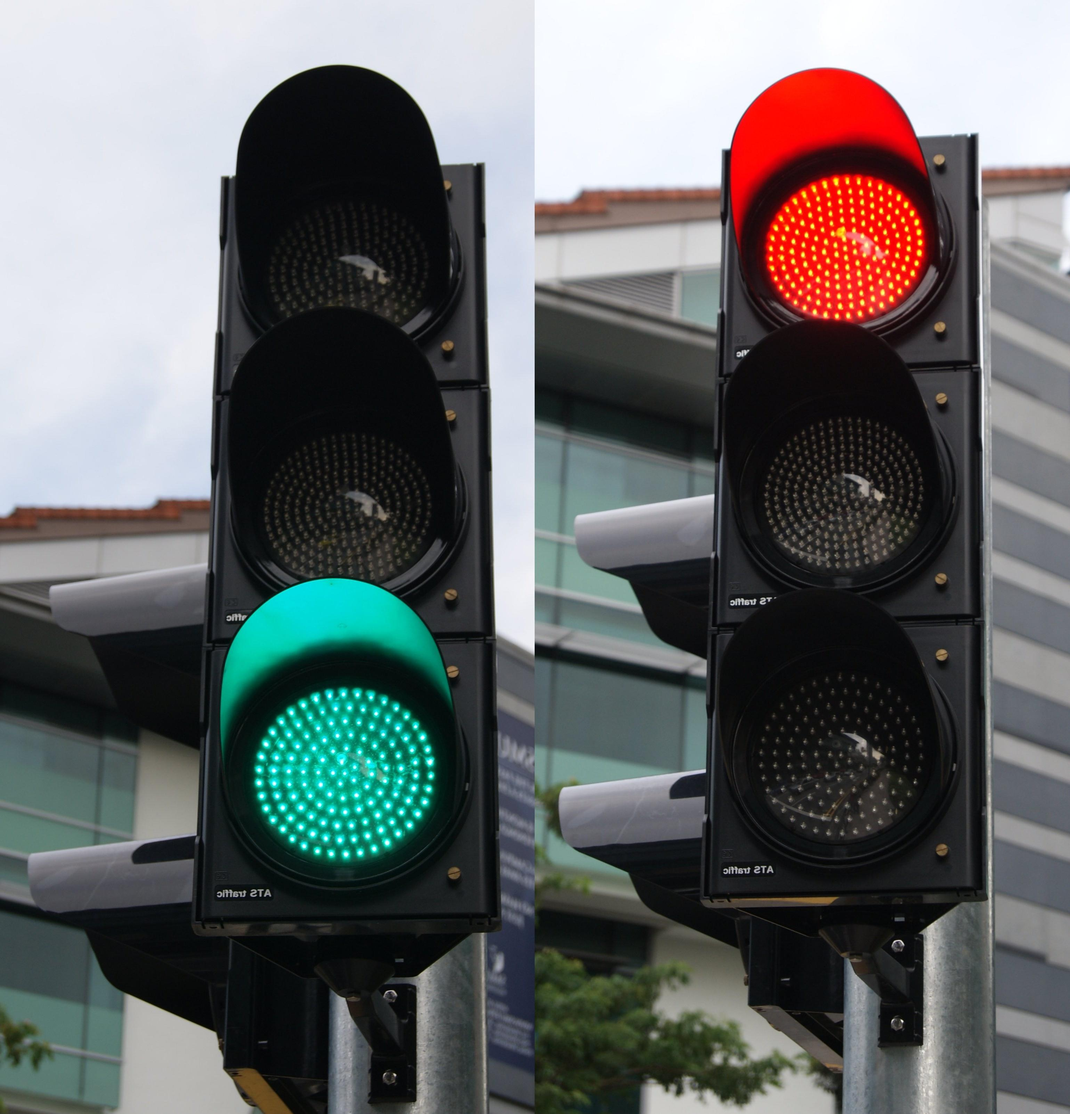green: (136, 94, 539, 1001)
